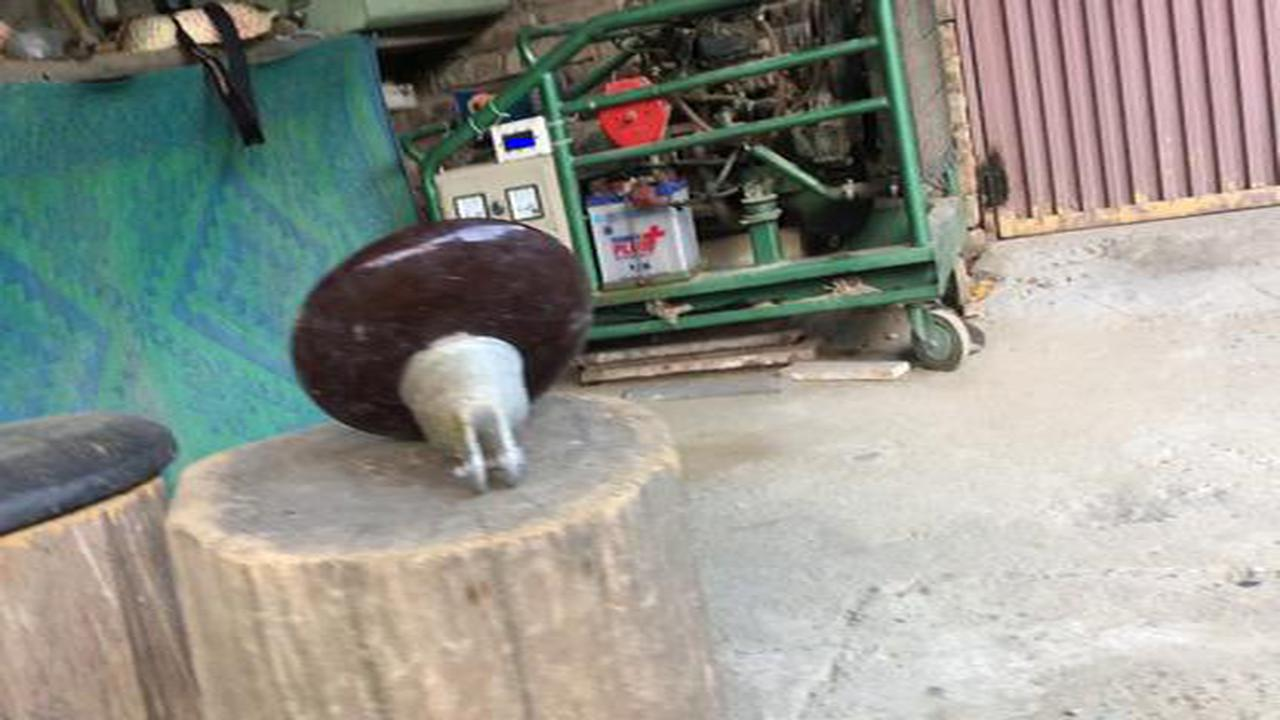insulator_disc: (284, 210, 599, 500)
